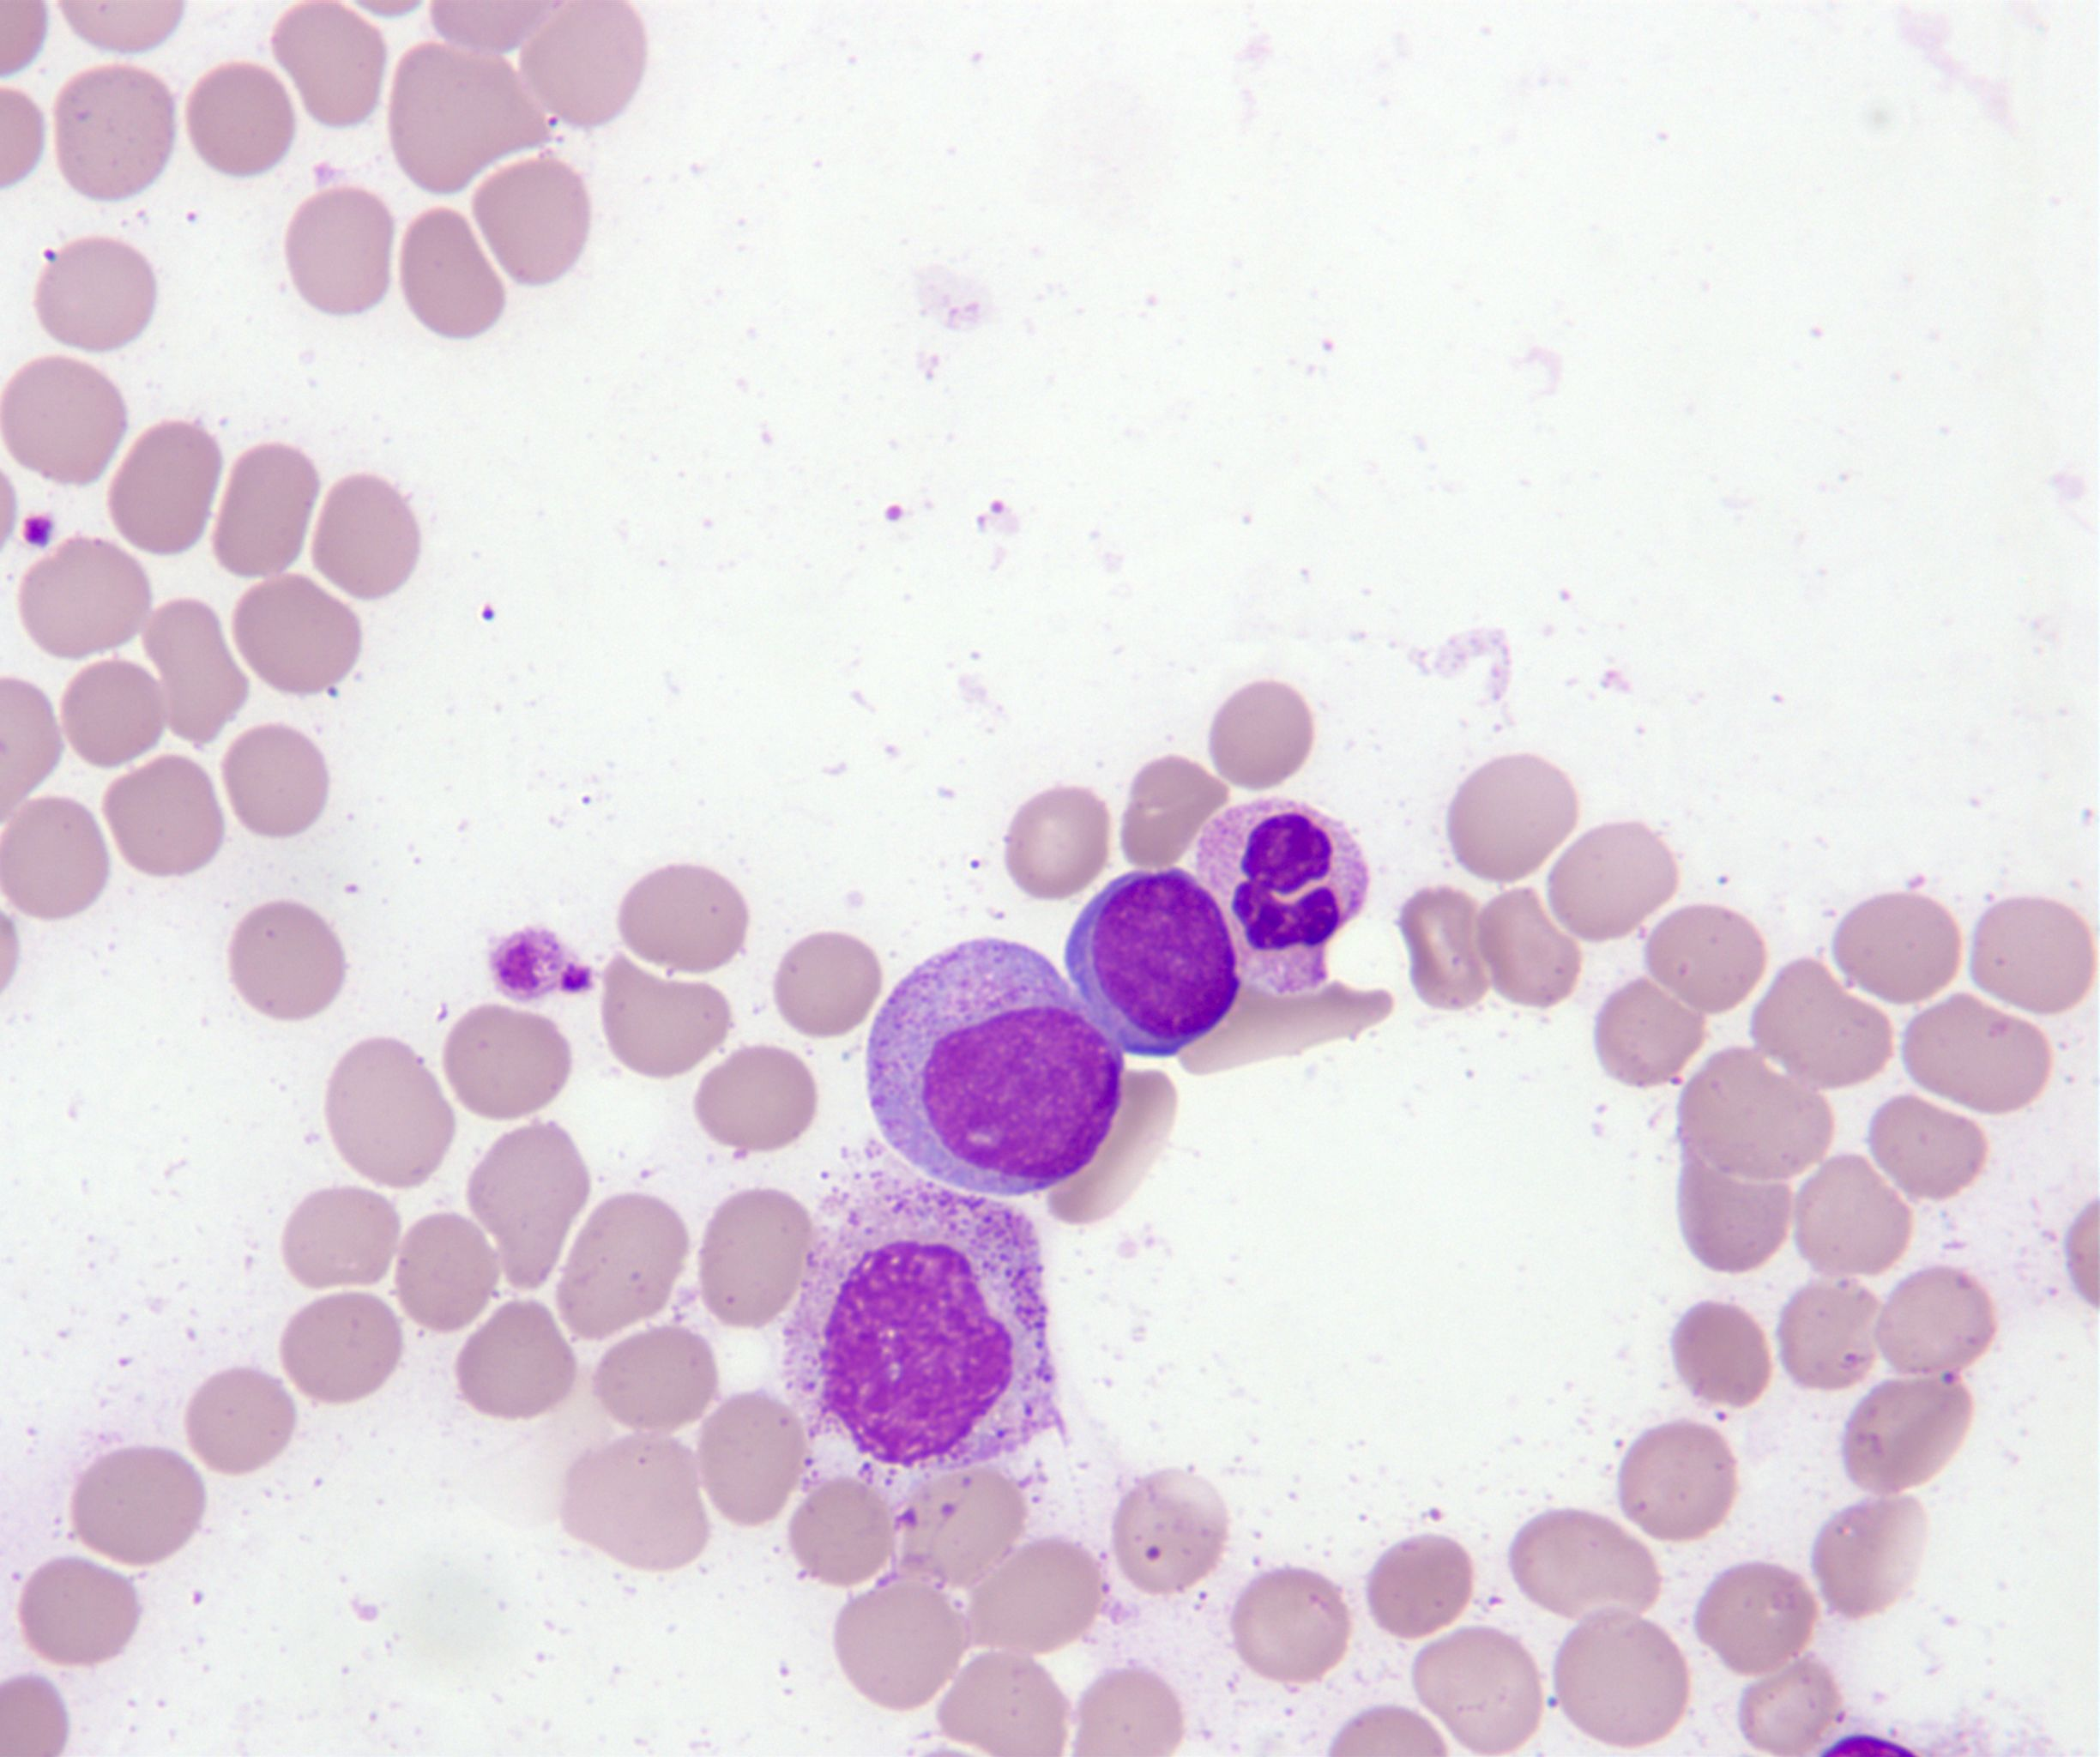3: (867, 939, 1125, 1197)
32: (1064, 867, 1240, 1056)
5: (1197, 799, 1369, 995)
x: (787, 1171, 1057, 1474)
